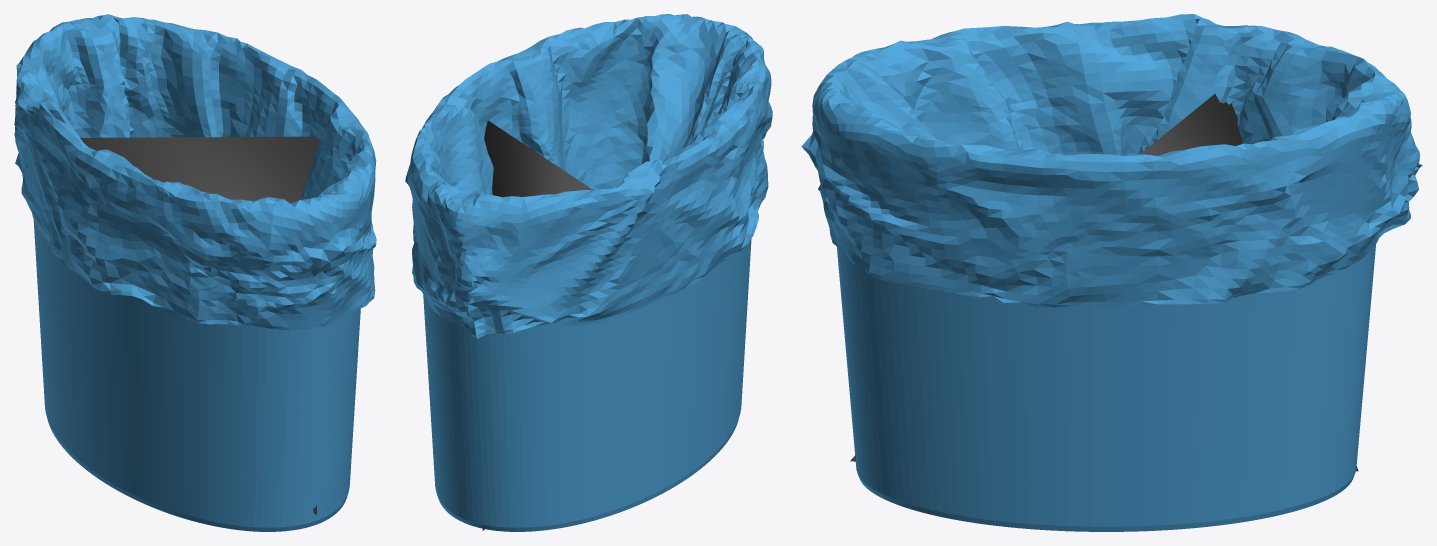
File: trash_1.glb
The picture shows the model from 3 angles, left to right: view 1: azimuth 30°, elevation 25°; view 2: azimuth 150°, elevation 25°; view 3: azimuth 270°, elevation 25°; orthographic projection. The views are drawn at different scales.
Parts seen in each view (by area): view 1: trash_1; view 2: trash_1; view 3: trash_1.
Boxes of the visible parts, box(x1,y1,x2,y2) form: trash_1: box(14, 14, 376, 531); trash_1: box(405, 14, 772, 531); trash_1: box(801, 14, 1422, 531).
Size of the model in its own units: 0.359 by 0.4588 by 0.6487.
1 material, 1 textured.
